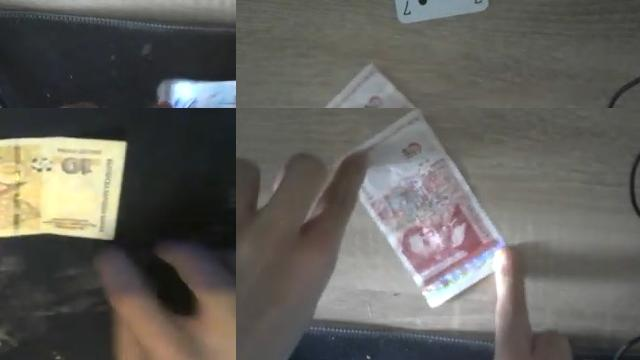10leva: (0, 135, 129, 240)
5leva: (358, 108, 506, 307)
